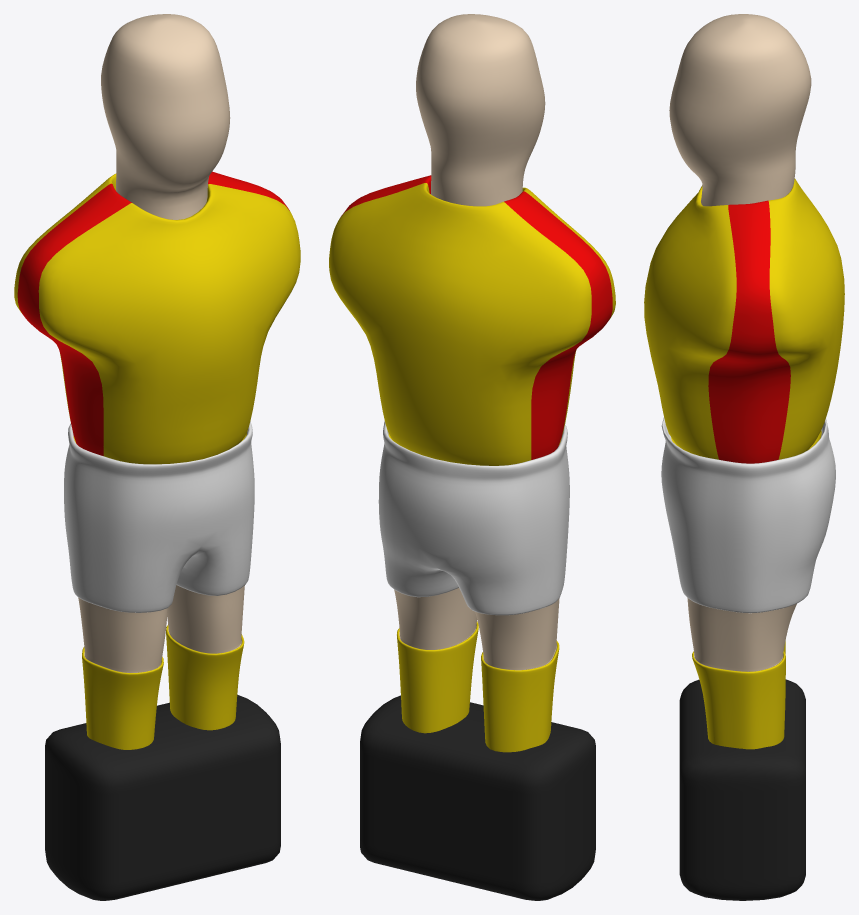
Rendered from biliardino - giocatore 02.fbx.
3 views of the same model, side by side, from view 1: azimuth 30°, elevation 25°; view 2: azimuth 150°, elevation 25°; view 3: azimuth 270°, elevation 25° (orthographic).
Parts seen in each view (by area): view 1: Cylinder.026; view 2: Cylinder.026; view 3: Cylinder.026.
Part boxes in pixels (left/top/right/bottom): Cylinder.026: left=14, top=14, right=300, bottom=900; Cylinder.026: left=329, top=14, right=615, bottom=900; Cylinder.026: left=644, top=14, right=844, bottom=900.
Size of the model in its own units: 45.71 by 142 by 30.71.
